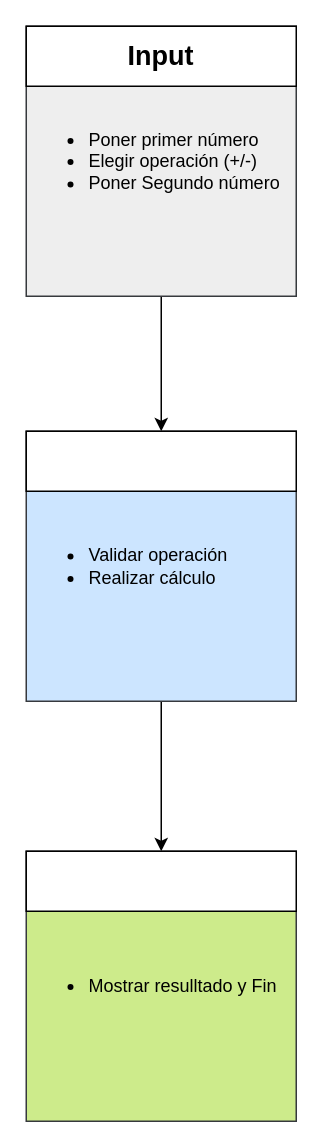
The diagram is 323 pixels wide and 1148 high, and some of its shapes have lost their labels. Each missing label, with the box of its shape:
Output: (25, 850, 296, 911)
Process: (25, 430, 296, 491)
